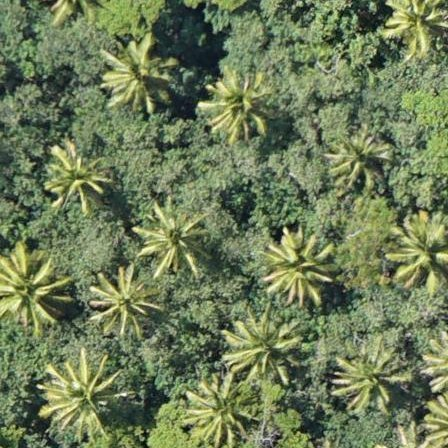palm_tree: (45, 359, 121, 435), (103, 44, 174, 120), (263, 230, 334, 303), (1, 252, 69, 324), (40, 139, 110, 208), (207, 67, 274, 138), (89, 269, 157, 337), (135, 206, 204, 271), (328, 127, 394, 194), (335, 345, 402, 410), (227, 316, 297, 378), (388, 219, 448, 291), (186, 383, 255, 443), (385, 1, 448, 58)
